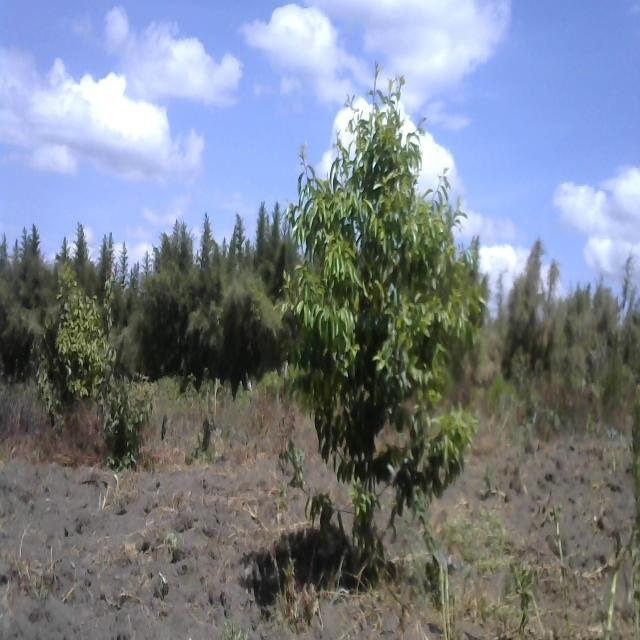Prunus Africana: (285, 71, 515, 553), (42, 262, 112, 419)
